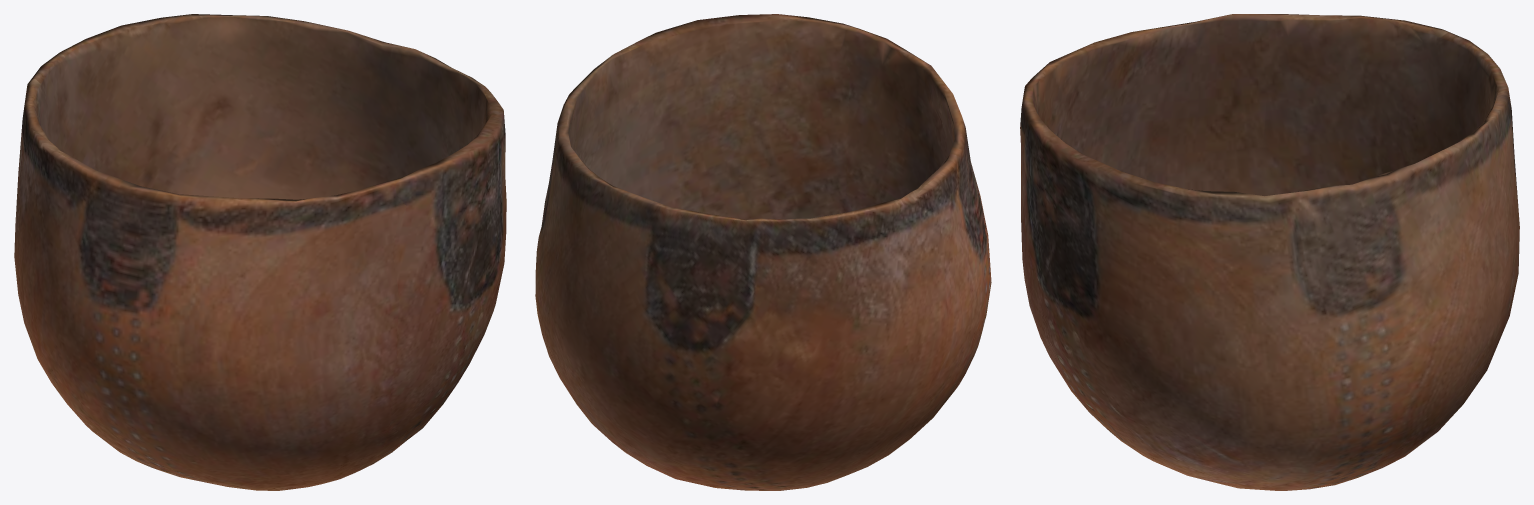
Rendered from bowl.glb.
The picture shows the model from 3 angles, left to right: view 1: azimuth 30°, elevation 25°; view 2: azimuth 150°, elevation 25°; view 3: azimuth 270°, elevation 25°; orthographic projection. The views are drawn at different scales.
Visible parts, largest first — view 1: wh0ncbf_LOD0_TIER2_000; view 2: wh0ncbf_LOD0_TIER2_000; view 3: wh0ncbf_LOD0_TIER2_000.
Part boxes in pixels (x1,y1,x2,y2): wh0ncbf_LOD0_TIER2_000: [14, 14, 506, 490]; wh0ncbf_LOD0_TIER2_000: [535, 14, 991, 490]; wh0ncbf_LOD0_TIER2_000: [1020, 14, 1519, 490].
Bounding box in the file's own units: 0.1475 × 0.1251 × 0.1507.
1 material, 1 textured.
